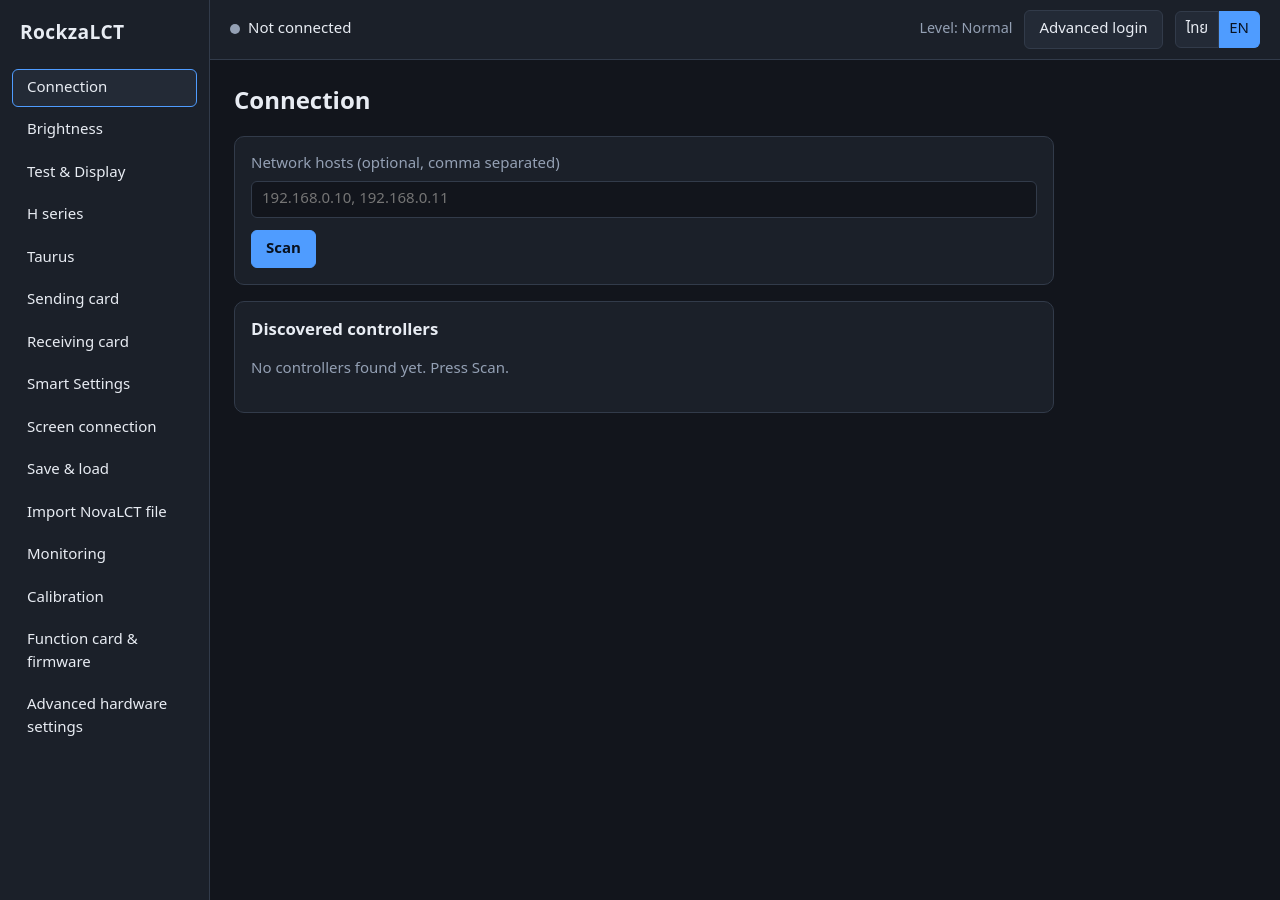
MonitorPage › reads nothing and is disabled while not connected
Click the button "Monitoring". click: (104, 556)
box: top-left (12, 536), bottom-right (197, 575)
Wait 60000 ms
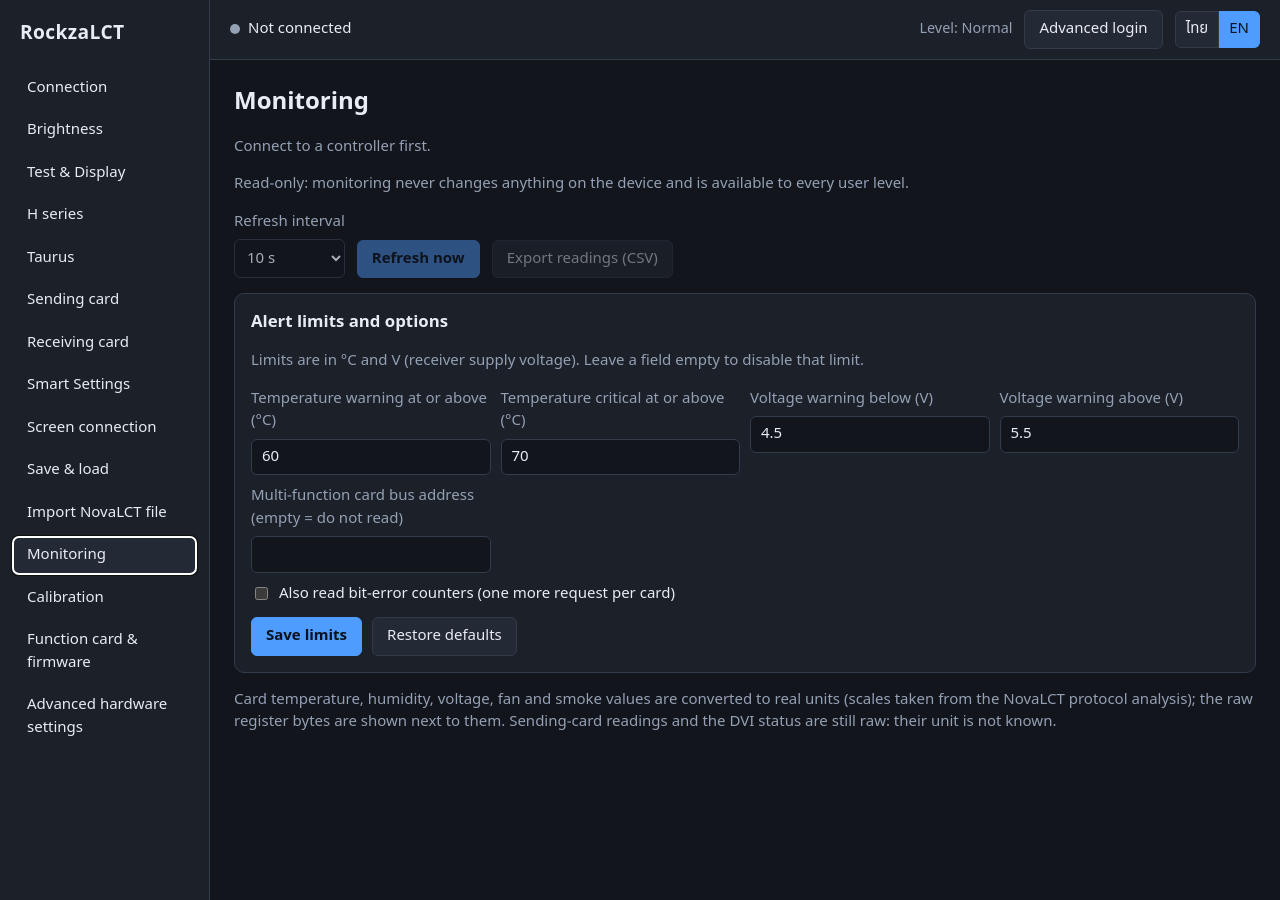
Check: the text "Connect to a controller first." is shown, box top-left (234, 134), bottom-right (431, 158)
Check: the button "Refresh now" is disabled, box top-left (357, 240), bottom-right (480, 278)
Check: the dropdown labelled "Refresh interval" is disabled, box top-left (234, 239), bottom-right (345, 278)
